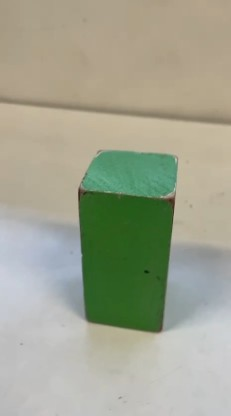green: (82, 172, 178, 315)
